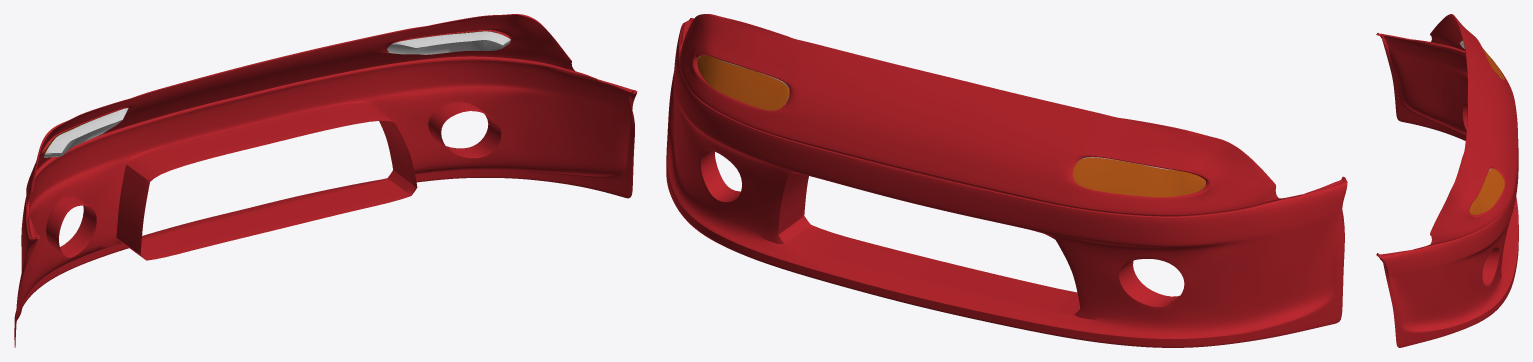
3 views of the same model, side by side, from view 1: azimuth 30°, elevation 25°; view 2: azimuth 150°, elevation 25°; view 3: azimuth 270°, elevation 25° (orthographic). The views are drawn at different scales.
Parts seen in each view (by area): view 1: Miata_Aero_FrontBarAK; view 2: Miata_Aero_FrontBarAK; view 3: Miata_Aero_FrontBarAK.
Boxes of the visible parts, bbox=[...] form: Miata_Aero_FrontBarAK: bbox=[14, 14, 637, 347]; Miata_Aero_FrontBarAK: bbox=[666, 14, 1347, 347]; Miata_Aero_FrontBarAK: bbox=[1376, 14, 1518, 347].
Size of the model in its own units: 66.56 by 18.93 by 17.58.
